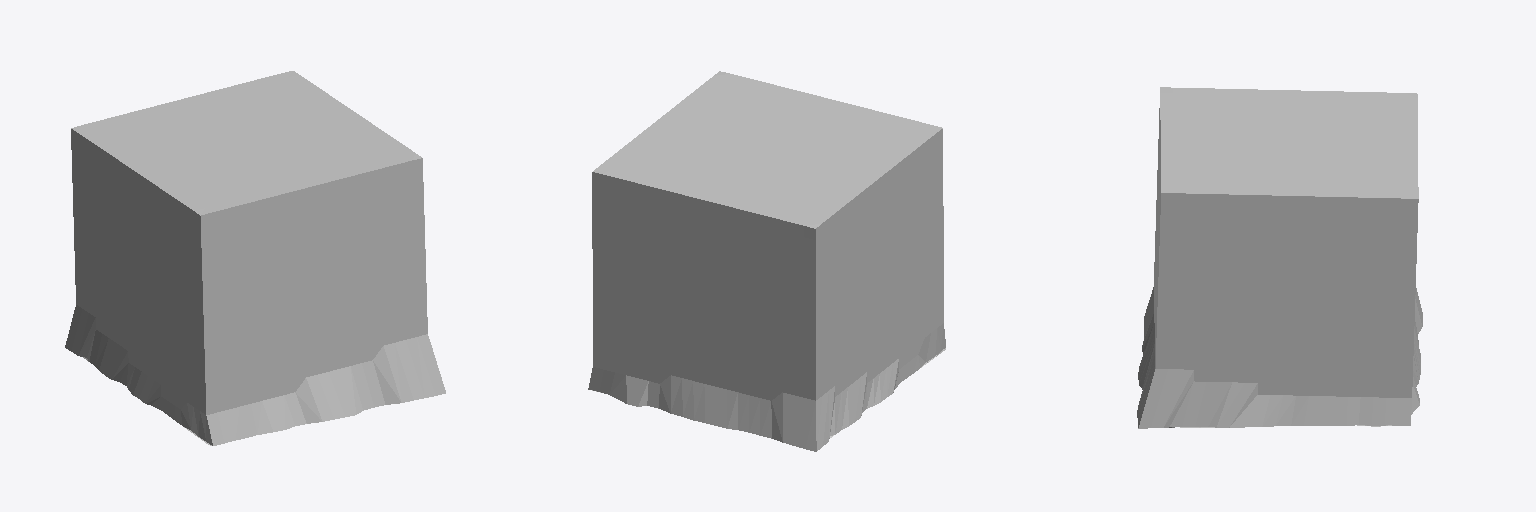
Rendered from mod0058.obj.
3 renders of one model, left to right at view 1: azimuth 30°, elevation 25°; view 2: azimuth 150°, elevation 25°; view 3: azimuth 270°, elevation 25°, orthographic.
Parts seen in each view (by area): view 1: Box001; view 2: Box001; view 3: Box001.
Part boxes in pixels (x1,y1,x2,y2): Box001: (65, 71, 445, 445); Box001: (588, 71, 945, 451); Box001: (1137, 87, 1422, 428).
Bounding box in the file's own units: 0.5799 × 0.5332 × 0.5979.